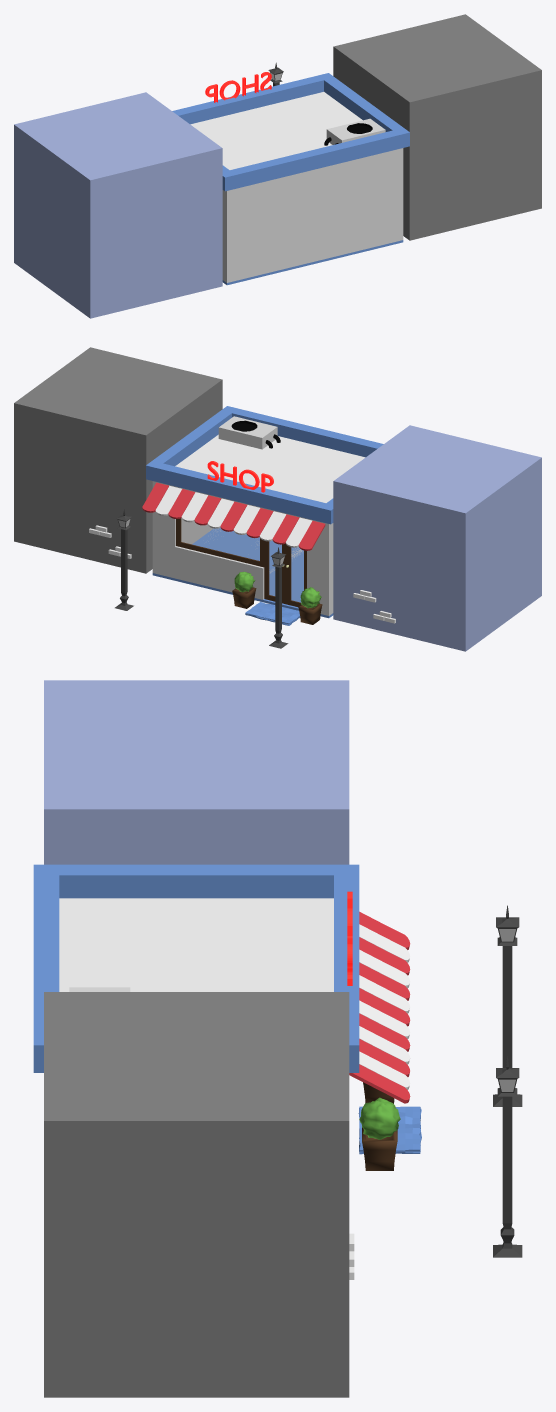
File: shop-coffee-a_night.glb
The picture shows the model from 3 angles, top to bottom: view 1: azimuth 30°, elevation 25°; view 2: azimuth 150°, elevation 25°; view 3: azimuth 270°, elevation 25°; orthographic projection. The views are drawn at different scales.
Visible parts, largest first — view 1: Cube.006_11, Cube_1, Cube.005_10, sign_letters; view 2: Cube.006_11, Cube_1, Cube.005_10, Cube.009_14, Cube.004_2, sign_letters, Cube.002_7, Cube.001_6, Cube.003_8; view 3: Cube.005_10, Cube.006_11, Cube_1, Cube.004_2, Cube.001_6, Cube.009_14, Cube.003_8.
Boxes of the visible parts, x1,y1,x2,y2 form: Cube.006_11: [14, 92, 222, 318]; Cube_1: [172, 73, 409, 285]; Cube.005_10: [333, 14, 541, 240]; sign_letters: [205, 72, 271, 102]; Cube.006_11: [333, 425, 541, 651]; Cube_1: [142, 406, 383, 618]; Cube.005_10: [14, 347, 222, 573]; Cube.009_14: [269, 547, 288, 648]; Cube.004_2: [115, 509, 133, 610]; sign_letters: [207, 461, 273, 492]; Cube.002_7: [298, 587, 322, 624]; Cube.001_6: [232, 571, 256, 608]; Cube.003_8: [245, 602, 300, 625]; Cube.005_10: [44, 992, 349, 1397]; Cube.006_11: [44, 680, 349, 864]; Cube_1: [33, 864, 410, 1103]; Cube.004_2: [493, 1056, 522, 1257]; Cube.001_6: [359, 1097, 400, 1170]; Cube.009_14: [493, 905, 522, 1106]; Cube.003_8: [358, 1106, 421, 1154].
Size of the model in its own units: 20.5 by 6.02 by 9.6.
